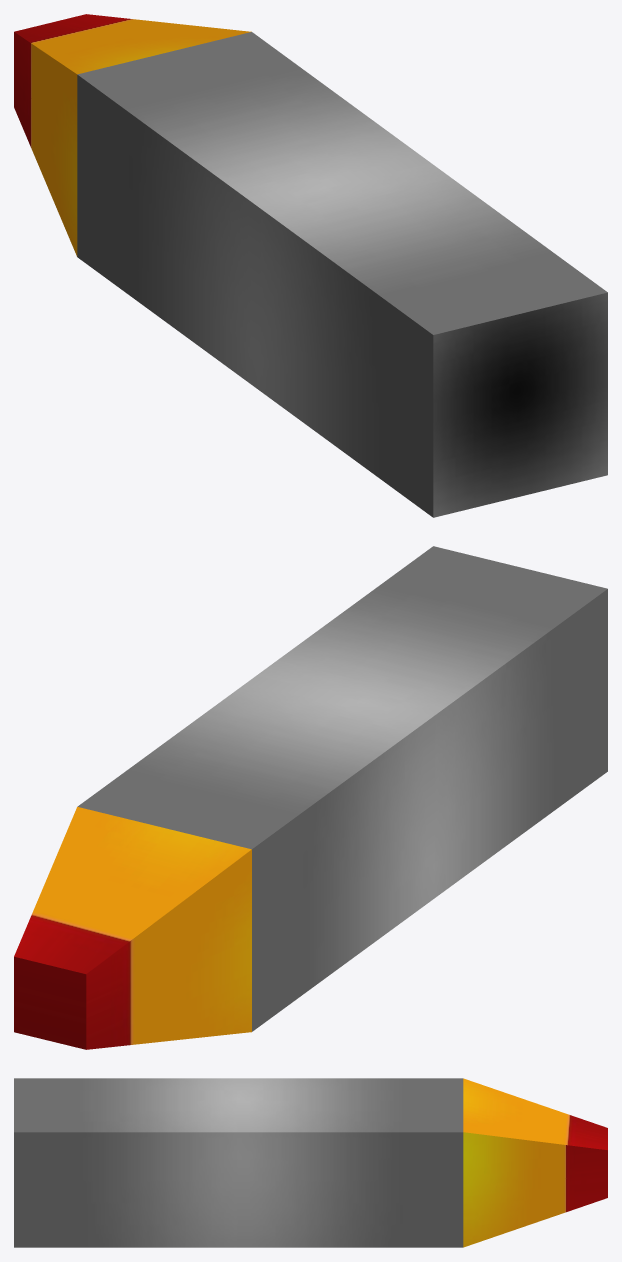
Rendered from ArenaBullet.fbx.
3 renders of one model, top to bottom at view 1: azimuth 30°, elevation 25°; view 2: azimuth 150°, elevation 25°; view 3: azimuth 270°, elevation 25°, orthographic. The views are drawn at different scales.
Visible parts, largest first — view 1: Bullet; view 2: Bullet; view 3: Bullet.
Boxes of the visible parts, x1,y1,x2,y2 form: Bullet: (14,14,607,517); Bullet: (14,546,607,1049); Bullet: (14,1078,607,1247).
Bounding box in the file's own units: 0.6 × 0.6 × 2.8.
